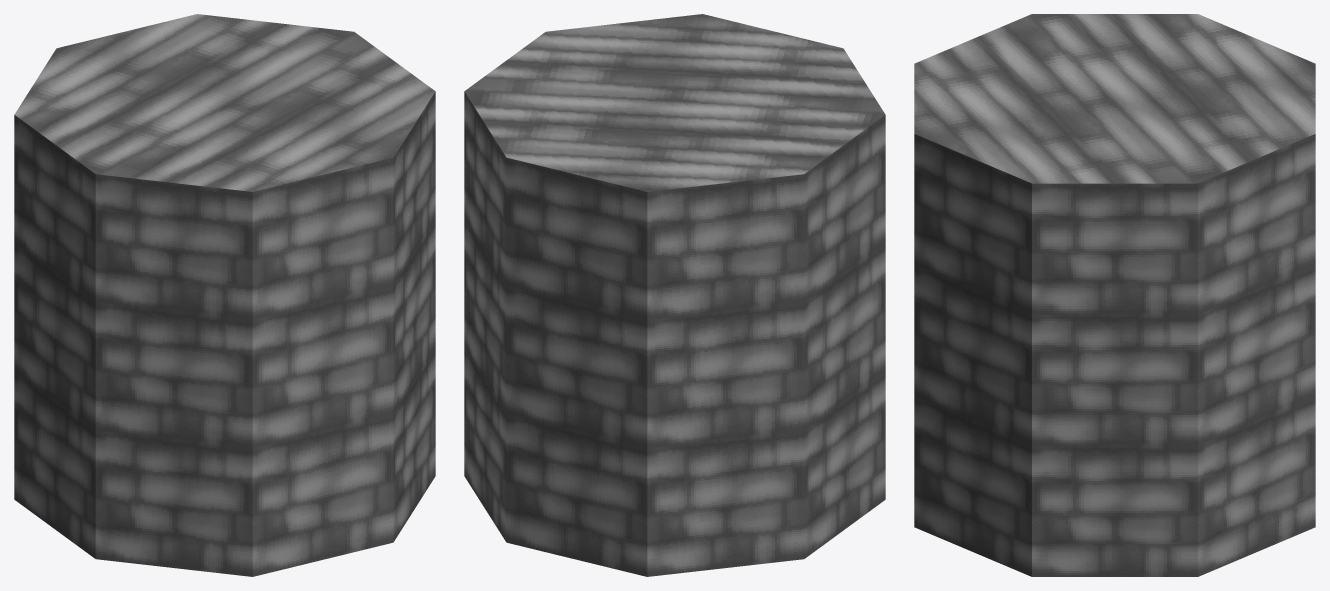
File: roof3.obj
The picture shows the model from 3 angles, left to right: view 1: azimuth 30°, elevation 25°; view 2: azimuth 150°, elevation 25°; view 3: azimuth 270°, elevation 25°; orthographic projection. The views are drawn at different scales.
Parts seen in each view (by area): view 1: Object.1; view 2: Object.1; view 3: Object.1.
Boxes of the visible parts, <box> form: Object.1: <box>14,14,435,576</box>; Object.1: <box>464,14,885,576</box>; Object.1: <box>914,14,1315,576</box>.
Size of the model in its own units: 2.77 by 3 by 2.77.
